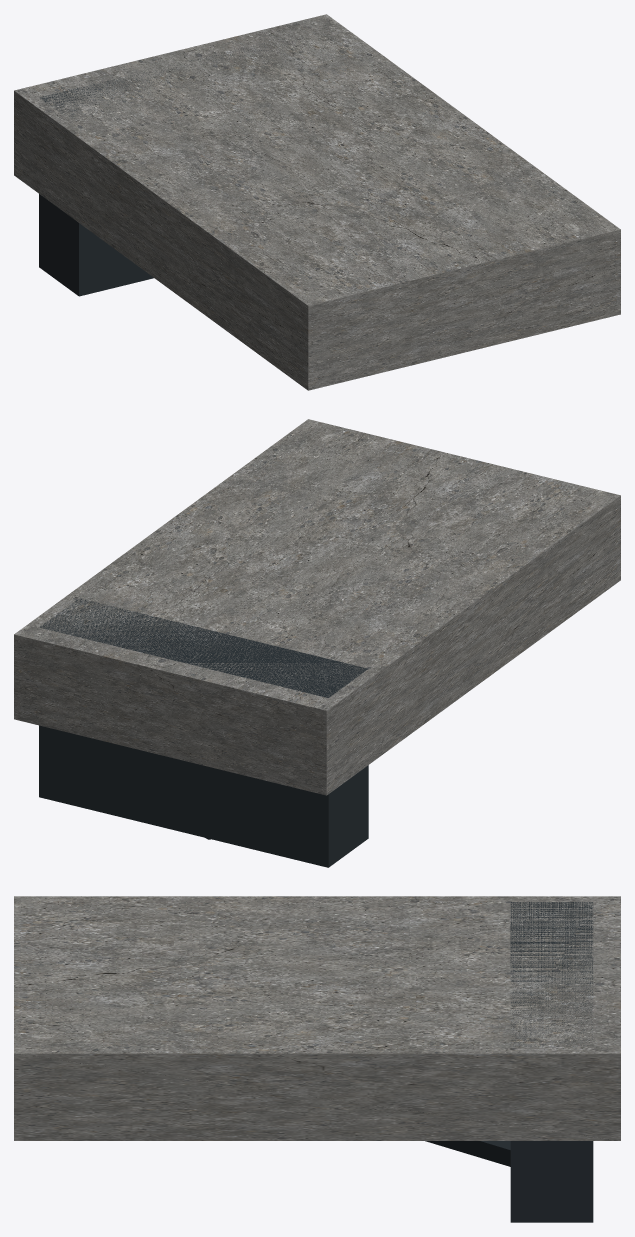
File: apoyo_faro.obj
The picture shows the model from 3 angles, top to bottom: view 1: azimuth 30°, elevation 25°; view 2: azimuth 150°, elevation 25°; view 3: azimuth 270°, elevation 25°; orthographic projection. The views are drawn at different scales.
Visible parts, largest first — view 1: Mensula_unida_al_borde_de_concreto, Anclaje_y_riostra_de_mensula; view 2: Mensula_unida_al_borde_de_concreto, Anclaje_y_riostra_de_mensula; view 3: Mensula_unida_al_borde_de_concreto, Anclaje_y_riostra_de_mensula.
Part boxes in pixels (box(x1,y1,x2,y2)): Mensula_unida_al_borde_de_concreto: box(14, 14, 620, 390); Anclaje_y_riostra_de_mensula: box(39, 38, 357, 296); Mensula_unida_al_borde_de_concreto: box(14, 419, 620, 795); Anclaje_y_riostra_de_mensula: box(39, 598, 368, 867); Mensula_unida_al_borde_de_concreto: box(14, 896, 620, 1140); Anclaje_y_riostra_de_mensula: box(425, 902, 593, 1222).
Size of the model in its own units: 0.27 by 0.1609 by 0.44.
Materials: 2 (1 with a texture image).
